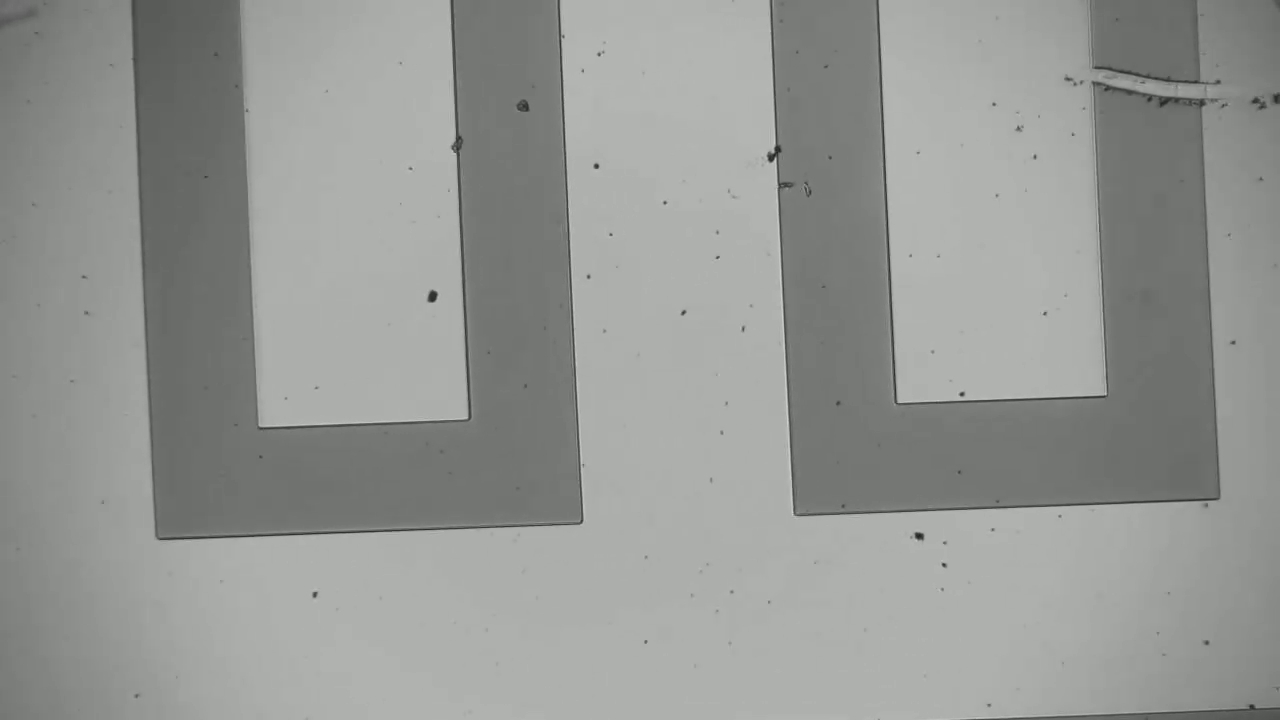Short_circuit: (1054, 38, 1241, 138)
